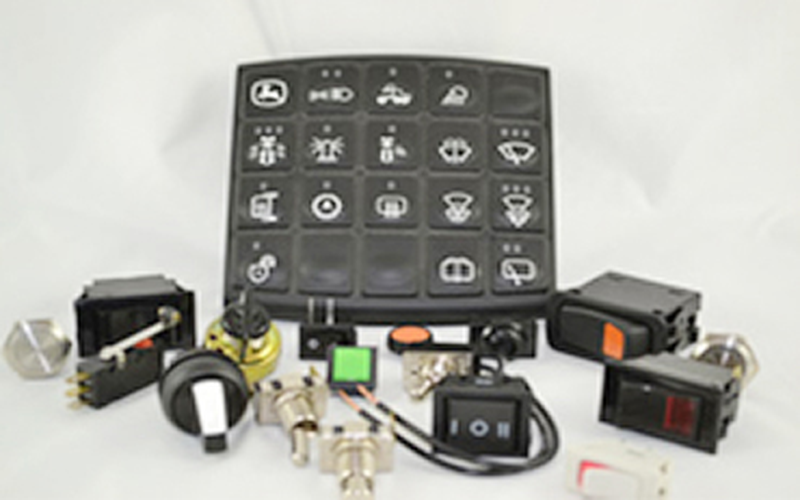Switches: (64, 17, 785, 500)
